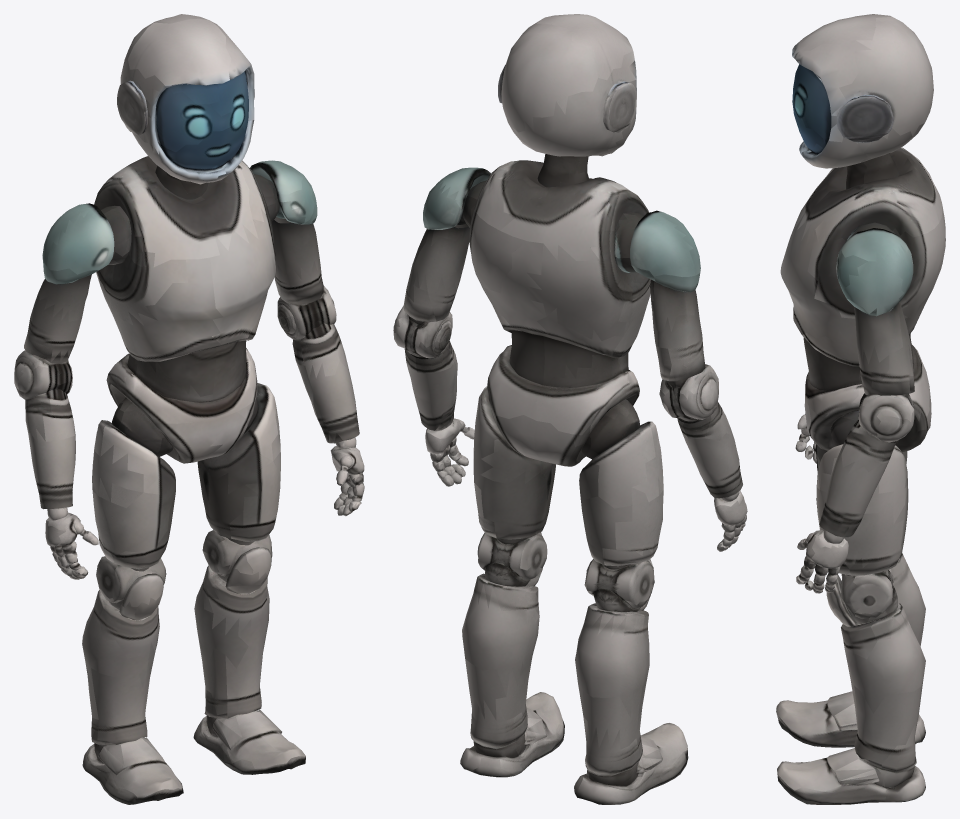
Rendered from player15k_textured.glb.
The picture shows the model from 3 angles, left to right: view 1: azimuth 30°, elevation 25°; view 2: azimuth 150°, elevation 25°; view 3: azimuth 270°, elevation 25°; orthographic projection.
Parts seen in each view (by area): view 1: mesh_node; view 2: mesh_node; view 3: mesh_node.
Part boxes in pixels (x1,y1,x2,y2): mesh_node: (14, 14, 364, 804); mesh_node: (393, 14, 747, 804); mesh_node: (776, 14, 945, 804).
Size of the model in its own units: 0.4482 by 1 by 0.2085.
Materials: 1 (1 with a texture image).
